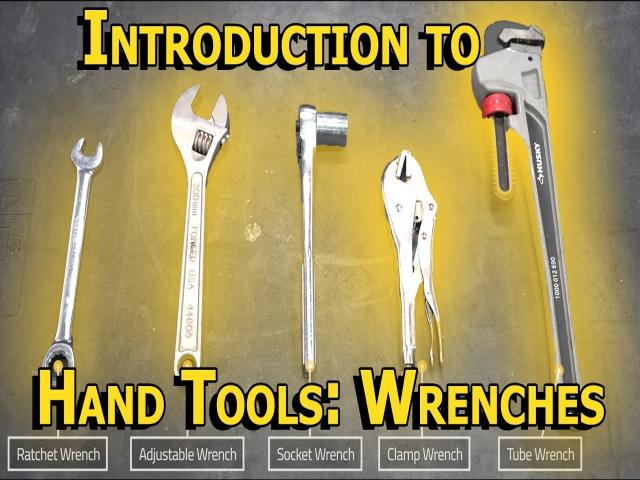Adjustable spanner: (171, 85, 230, 375)
Ratchet: (296, 105, 348, 374)
Wrench: (42, 138, 102, 368)
